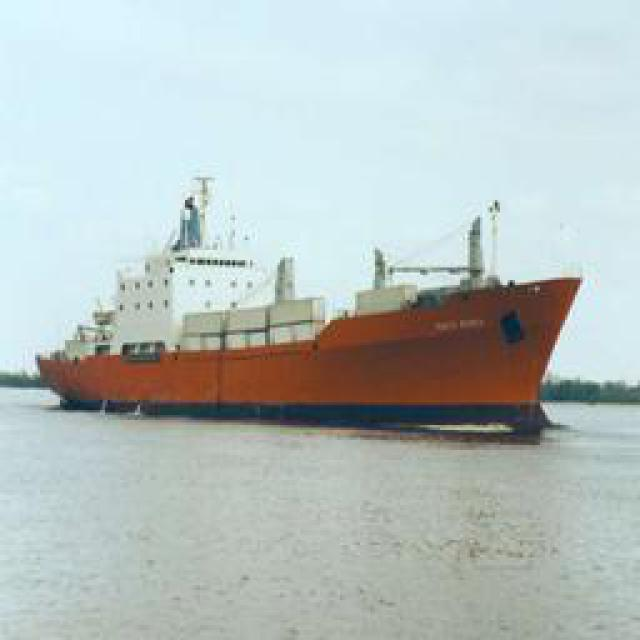Ship: (45, 186, 578, 429)
